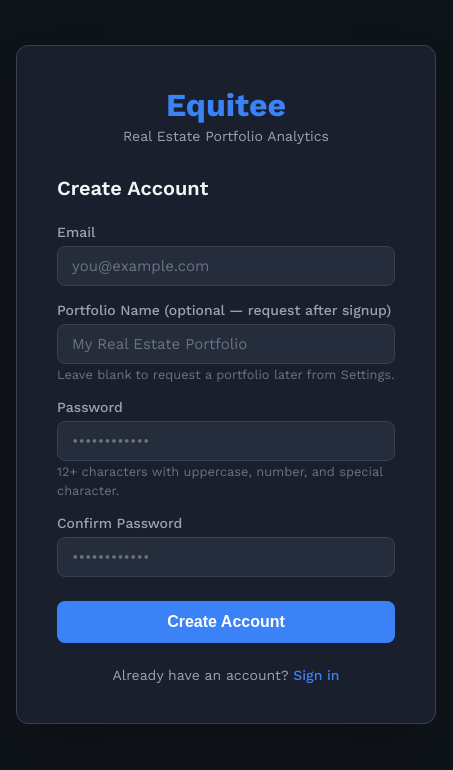
Test: RegisterPage › shows server error on registration failure
The image size is (453, 770).
In the field labelled "Email": {"x": 226, "y": 266} [57, 246, 395, 286], type "existing@example.com"
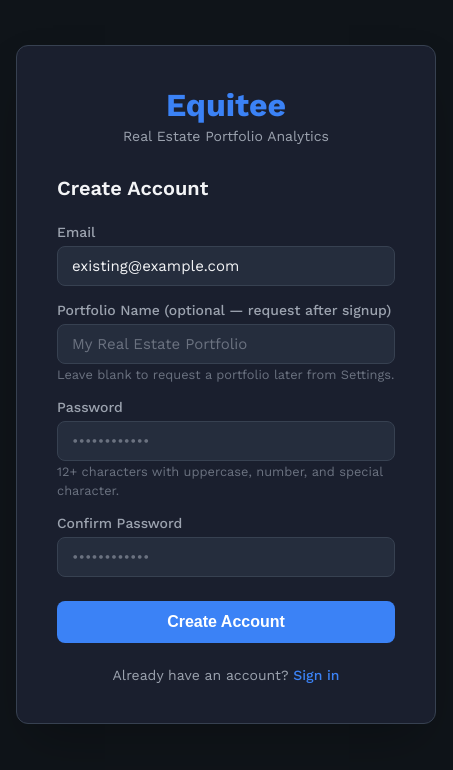
In the password field labelled "Password": {"x": 226, "y": 440} [57, 420, 395, 460], type "Password123!"
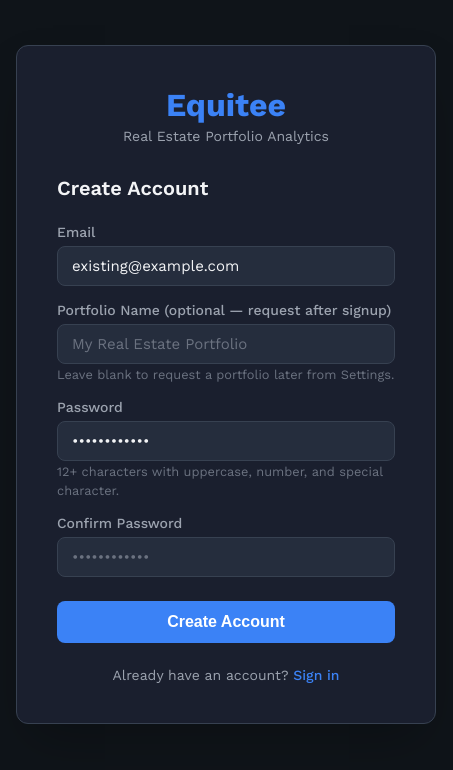
In the password field labelled "Confirm Password": {"x": 226, "y": 556} [57, 536, 395, 576], type "Password123!"
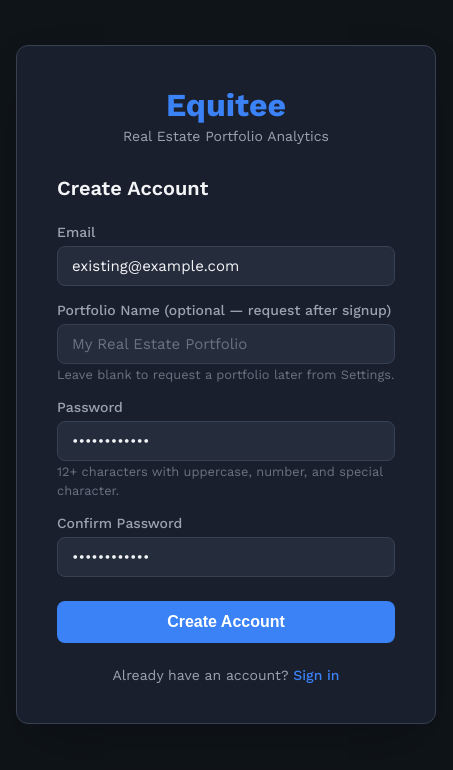
Click the button "Create Account": {"x": 226, "y": 622} [57, 600, 395, 642]
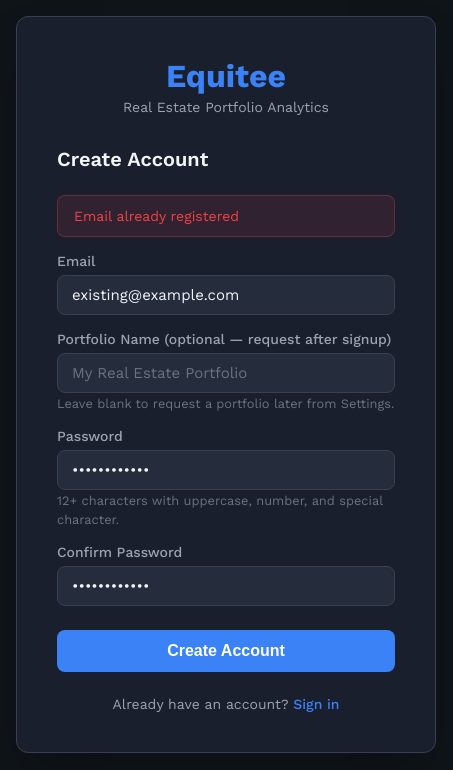
expect the text "Email already registered" is shown: met, box [57, 194, 395, 236]
